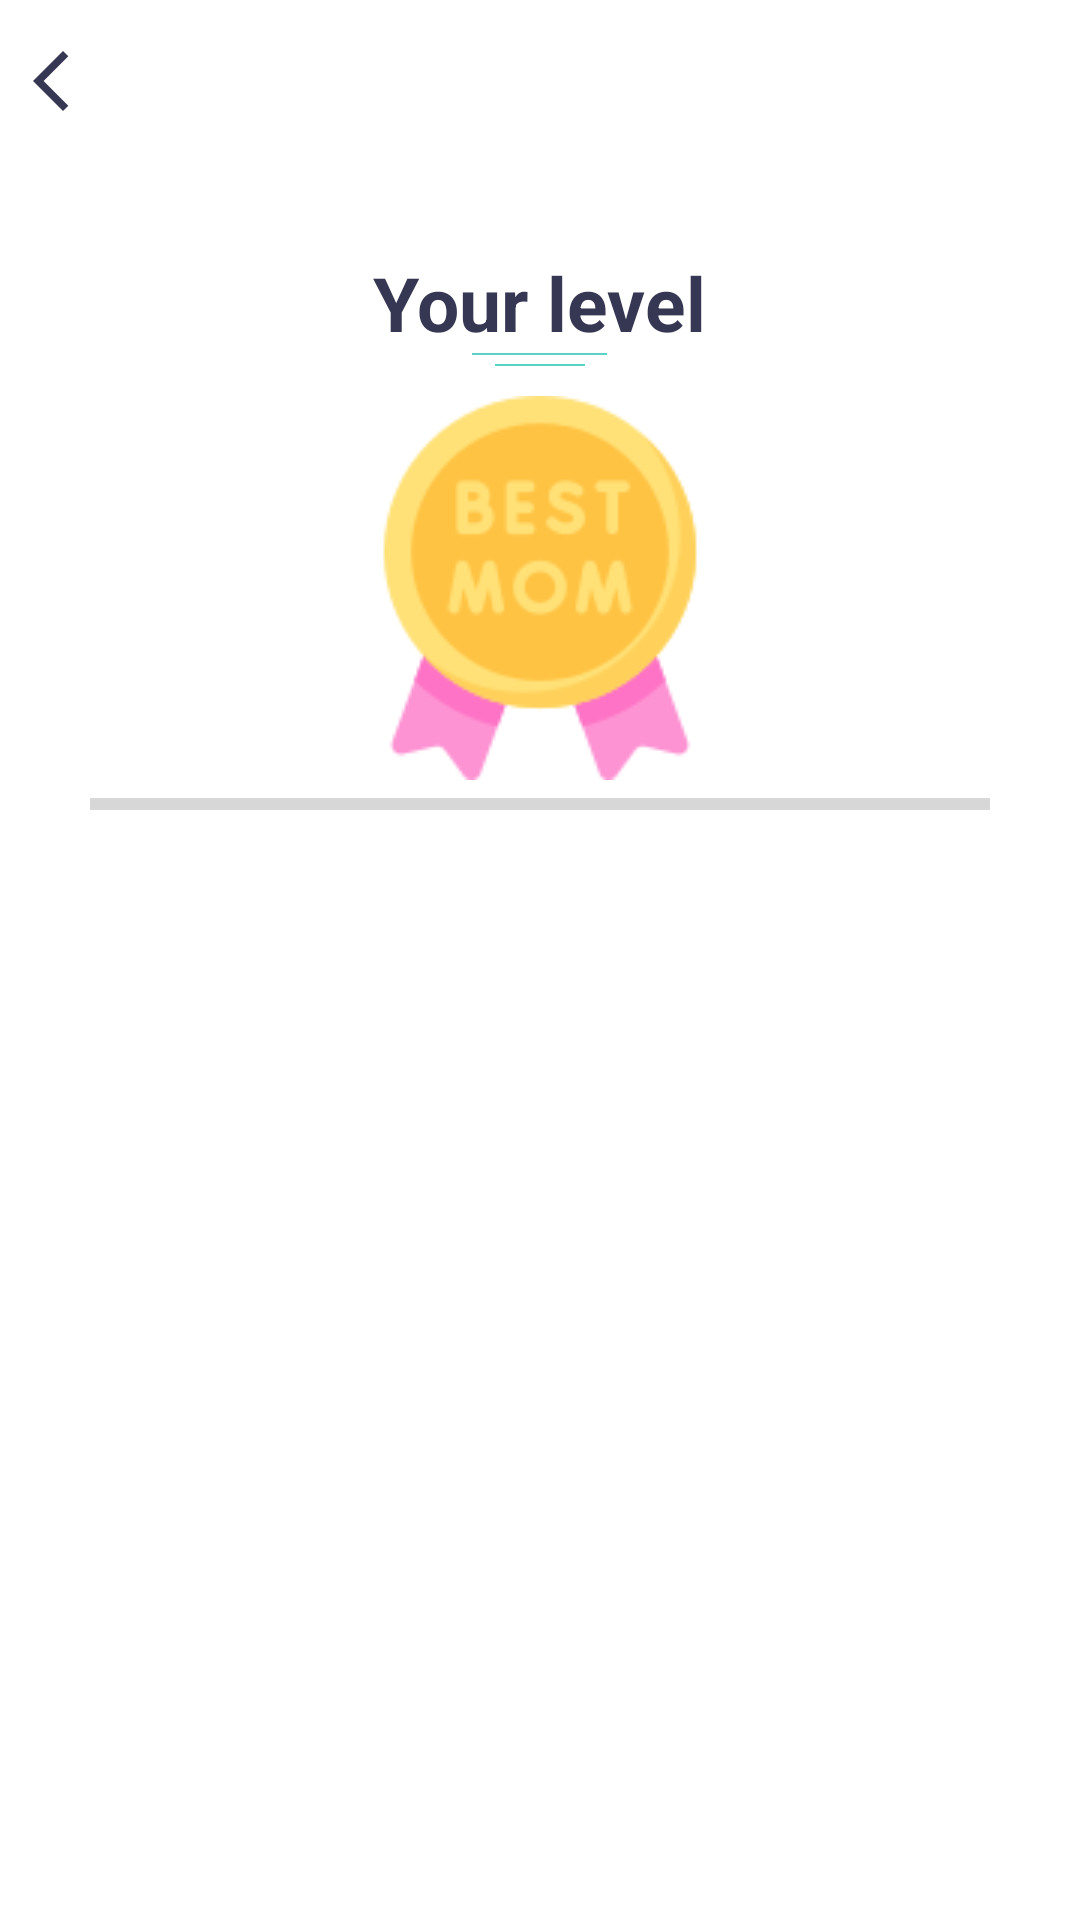

Screen size 1080 × 1920. Icon name, then its box in pixels as (left=x1, top=y1, right=x2, bottom=y2):
arrow back: (left=33, top=51, right=68, bottom=111)
